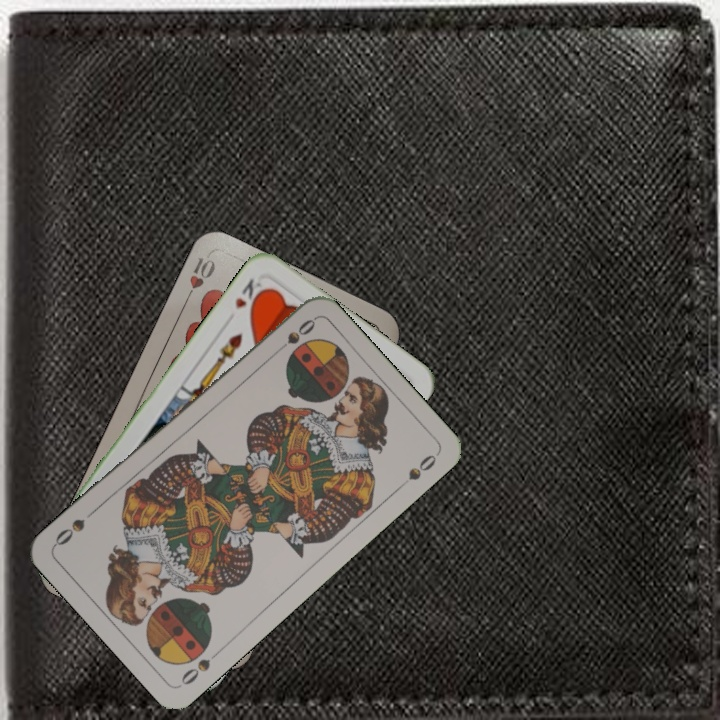H10: (180, 253, 218, 307)
HK: (230, 274, 268, 314)
SO: (269, 315, 319, 358), (177, 645, 225, 688)
